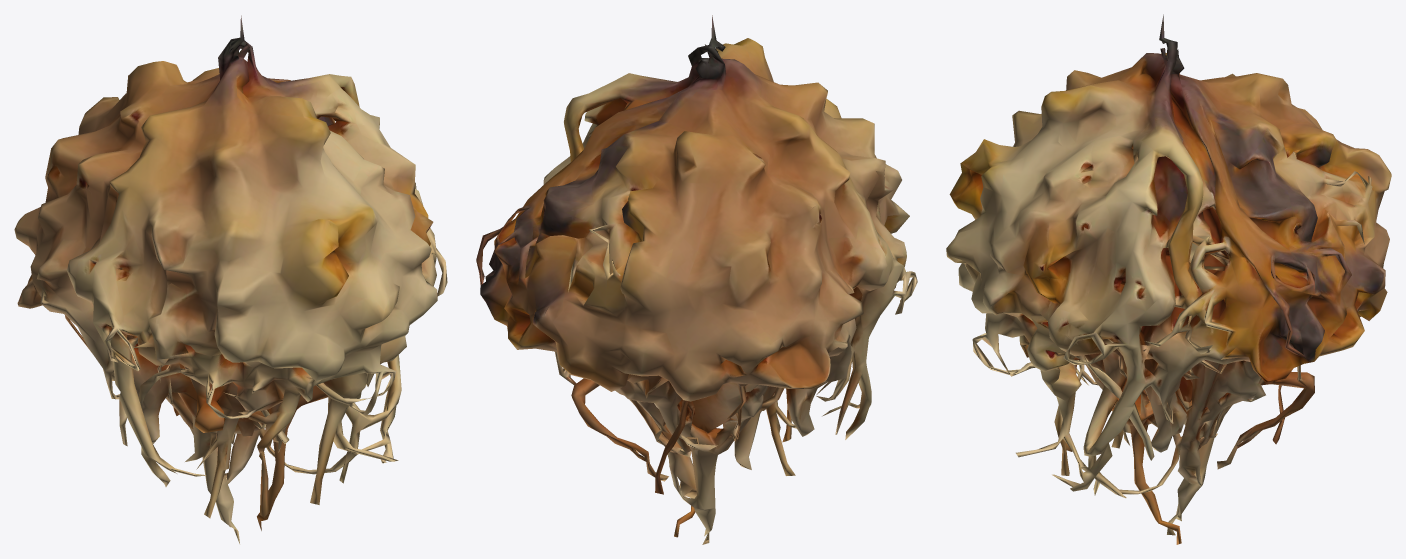
Rendered from cocoon.glb.
3 renders of one model, left to right at view 1: azimuth 30°, elevation 25°; view 2: azimuth 150°, elevation 25°; view 3: azimuth 270°, elevation 25°, orthographic. The views are drawn at different scales.
Parts seen in each view (by area): view 1: tripo_node_8ada5976-5a3d-4ad0-bd99-616d178be60f; view 2: tripo_node_8ada5976-5a3d-4ad0-bd99-616d178be60f; view 3: tripo_node_8ada5976-5a3d-4ad0-bd99-616d178be60f.
Boxes of the visible parts, <box> form: tripo_node_8ada5976-5a3d-4ad0-bd99-616d178be60f: <box>14,15,447,543</box>; tripo_node_8ada5976-5a3d-4ad0-bd99-616d178be60f: <box>476,15,917,544</box>; tripo_node_8ada5976-5a3d-4ad0-bd99-616d178be60f: <box>946,14,1391,544</box>.
Bounding box in the file's own units: 0.351 × 0.5 × 0.388.
Materials: 1 (1 with a texture image).
